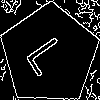L: (24, 29, 76, 78)
